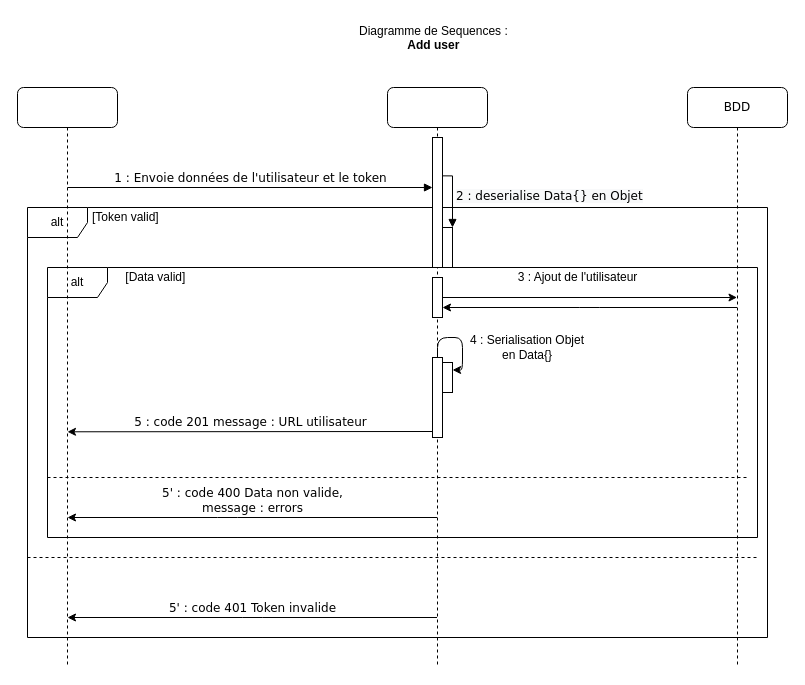
This 805x685 diagram has some shape labels left out. Each missing label, with the box of its shape:
API: (386, 86, 488, 668)
Utilisateur Auth: (16, 86, 118, 668)
